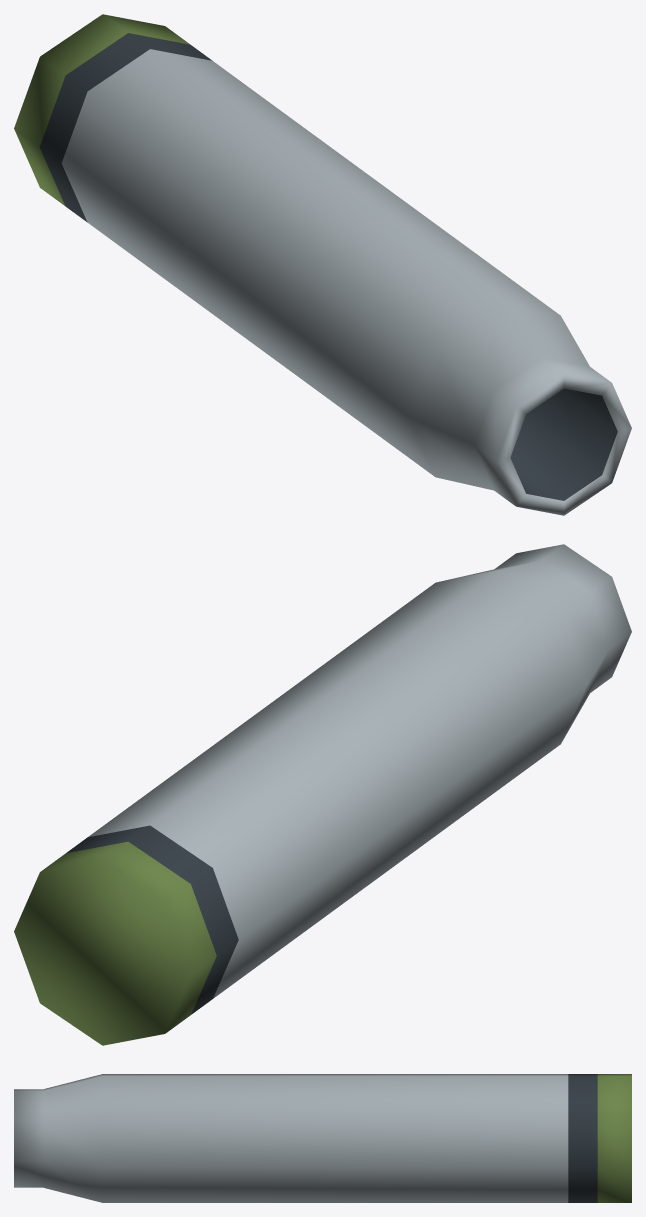
File: tank_arrow_case_game.glb
The picture shows the model from 3 angles, top to bottom: view 1: azimuth 30°, elevation 25°; view 2: azimuth 150°, elevation 25°; view 3: azimuth 270°, elevation 25°; orthographic projection. The views are drawn at different scales.
Parts seen in each view (by area): view 1: AMMO_MESH.044; view 2: AMMO_MESH.044; view 3: AMMO_MESH.044.
Boxes of the visible parts, x1,y1,x2,y2 form: AMMO_MESH.044: (14, 14, 631, 515); AMMO_MESH.044: (14, 544, 631, 1045); AMMO_MESH.044: (14, 1074, 631, 1202).
Size of the model in its own units: 0.1466 by 0.1466 by 0.6615.
